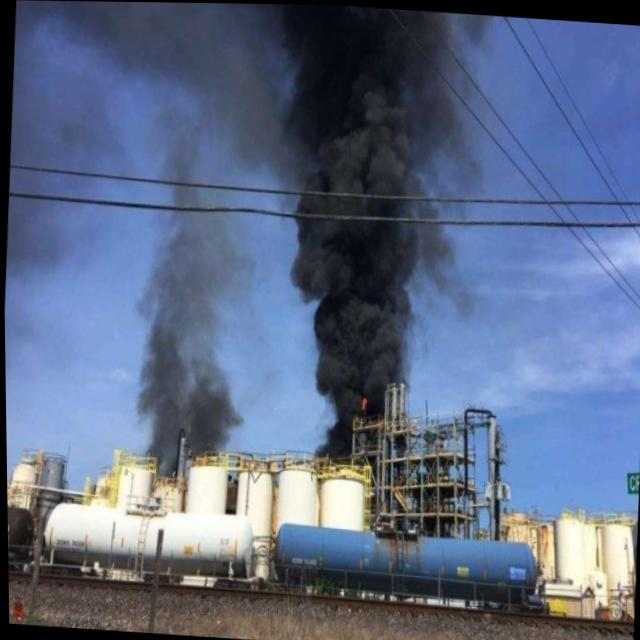fire: (358, 390, 368, 412)
